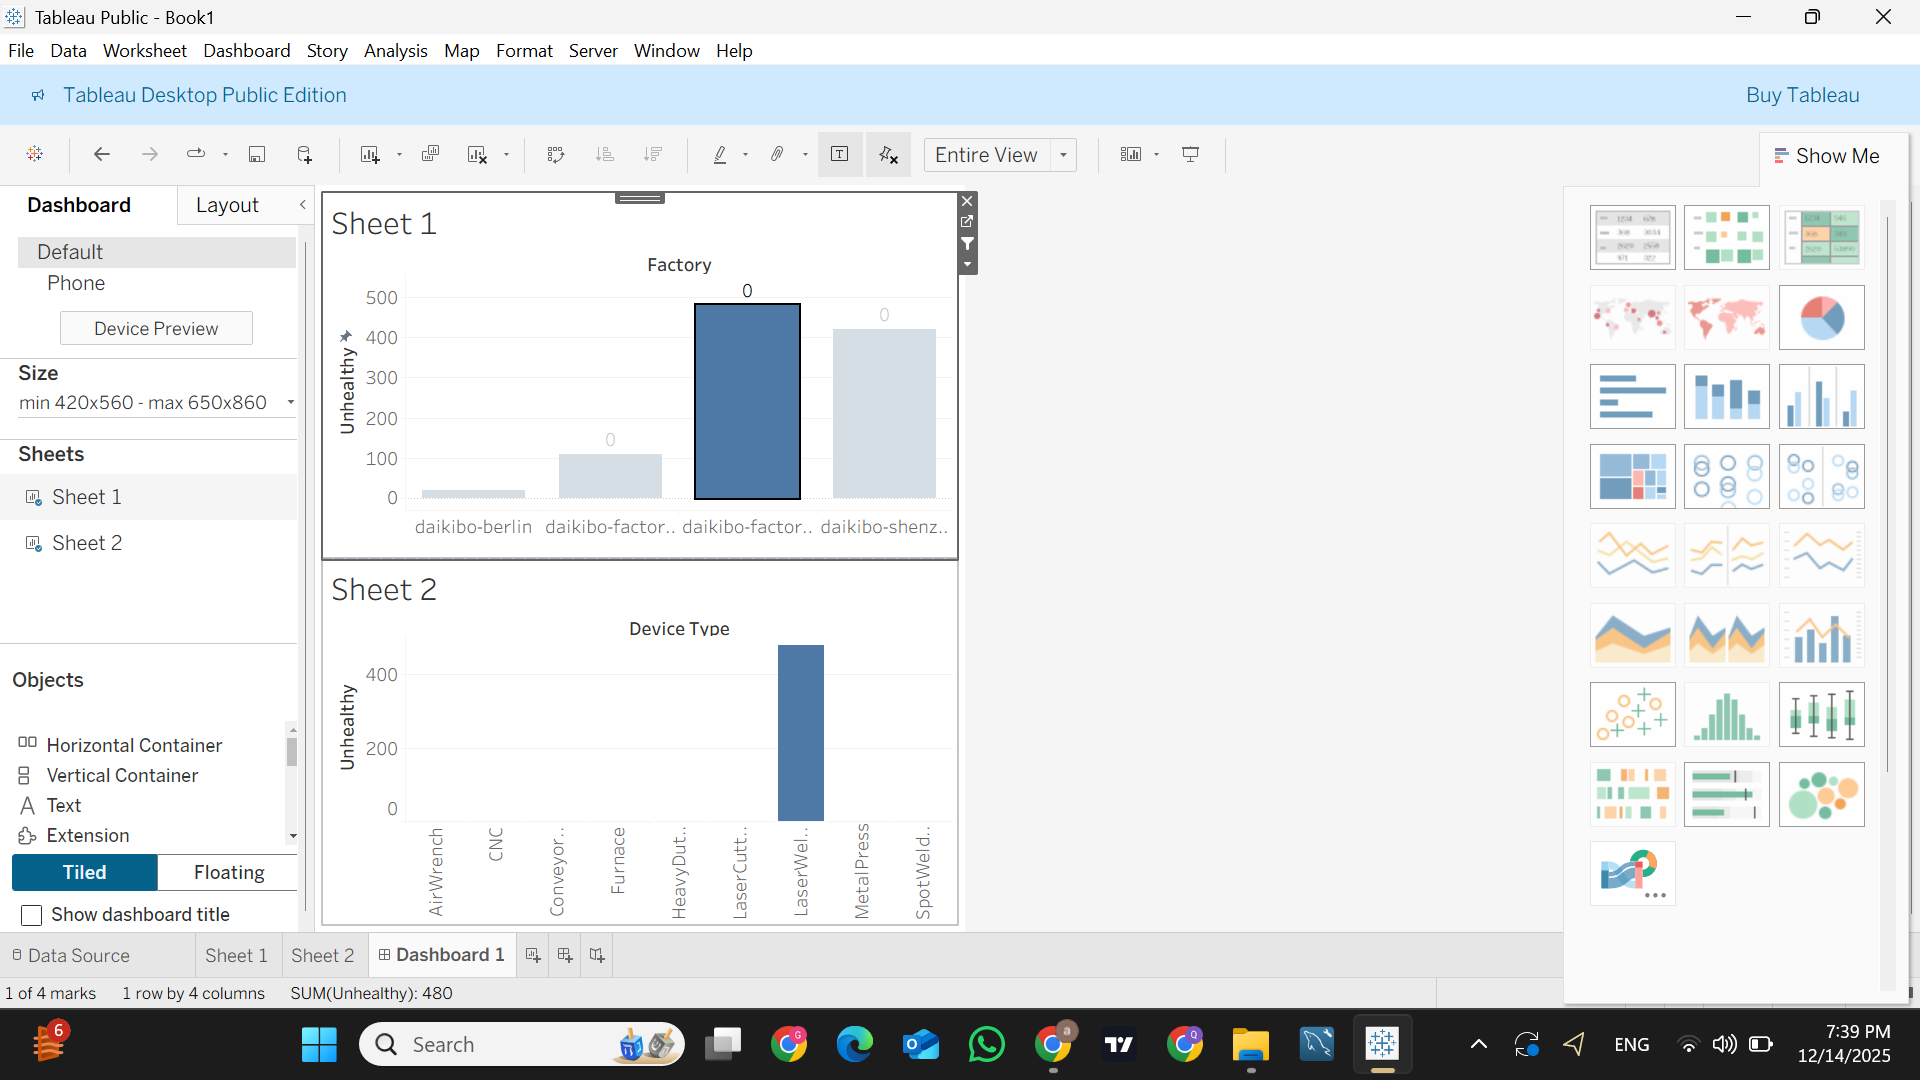

What the dashboard file says about the page in this screenshot:
{"tool":"tableau","page":{"name":"Dashboard 1","canvas":[650,860],"ordinal":0},"visuals":[{"type":"worksheet","title":"Sheet 1","mark":"Automatic","rows":["Calculation_0558843629178880"],"cols":["factory"],"box":[8,9.2,634,420.8]},{"type":"worksheet","title":"Sheet 2","mark":"Automatic","rows":["Calculation_0558843629178880"],"cols":["deviceType"],"box":[8,430,634,420.8]}]}

Visuals, with their boxes on the page's 650x860 design canvas (x1, y1, x2, y2). These are canvas units, not pixel positions in the 1920x1080 screenshot, which may show the page scaled, cropped or inside an application window:
"Sheet 1" worksheet: (8,9,642,430)
"Sheet 2" worksheet: (8,430,642,851)
